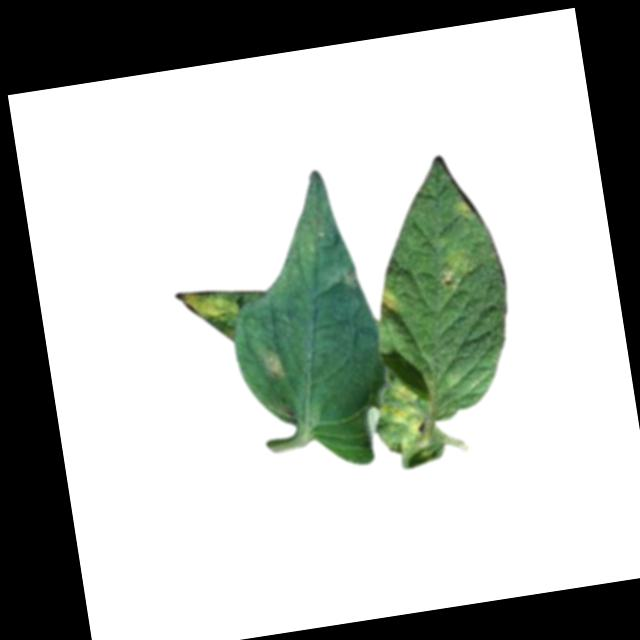Leaf_Mold: (374, 370, 439, 466), (176, 283, 244, 346), (371, 285, 407, 324), (261, 341, 289, 377), (449, 195, 478, 226)
